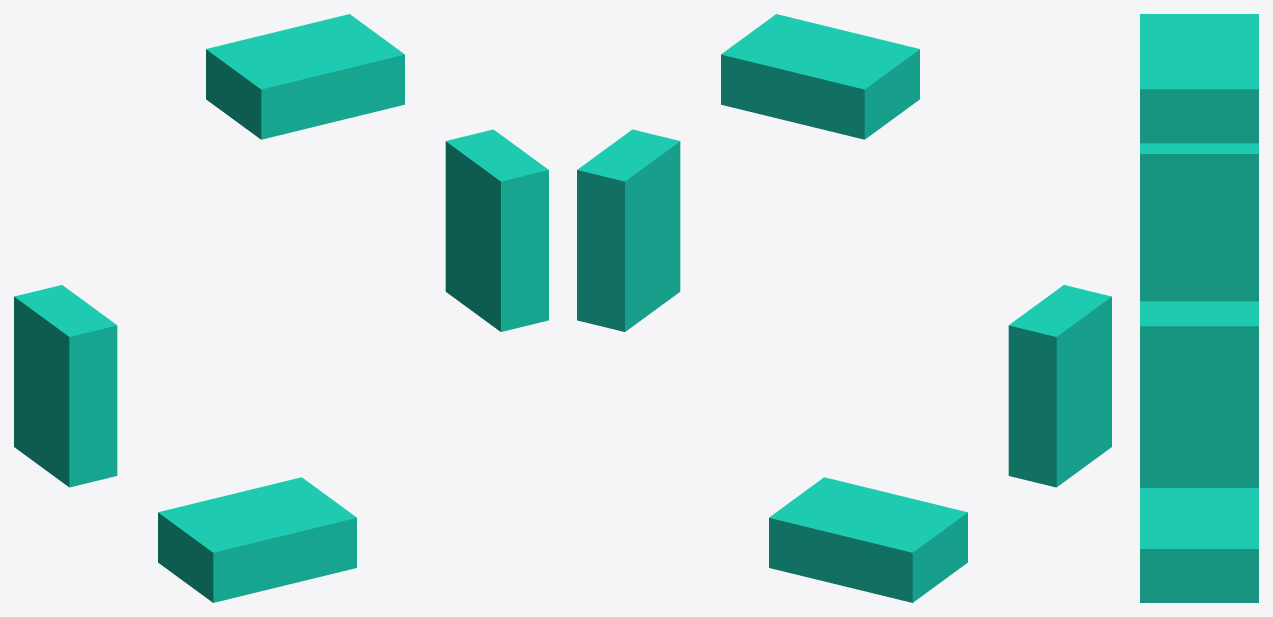
File: luzverde.obj
3 renders of one model, left to right at view 1: azimuth 30°, elevation 25°; view 2: azimuth 150°, elevation 25°; view 3: azimuth 270°, elevation 25°, orthographic. The views are drawn at different scales.
Bounding box in the file's own units: 1 × 1 × 0.2.
Materials: 1 (1 with a texture image).
